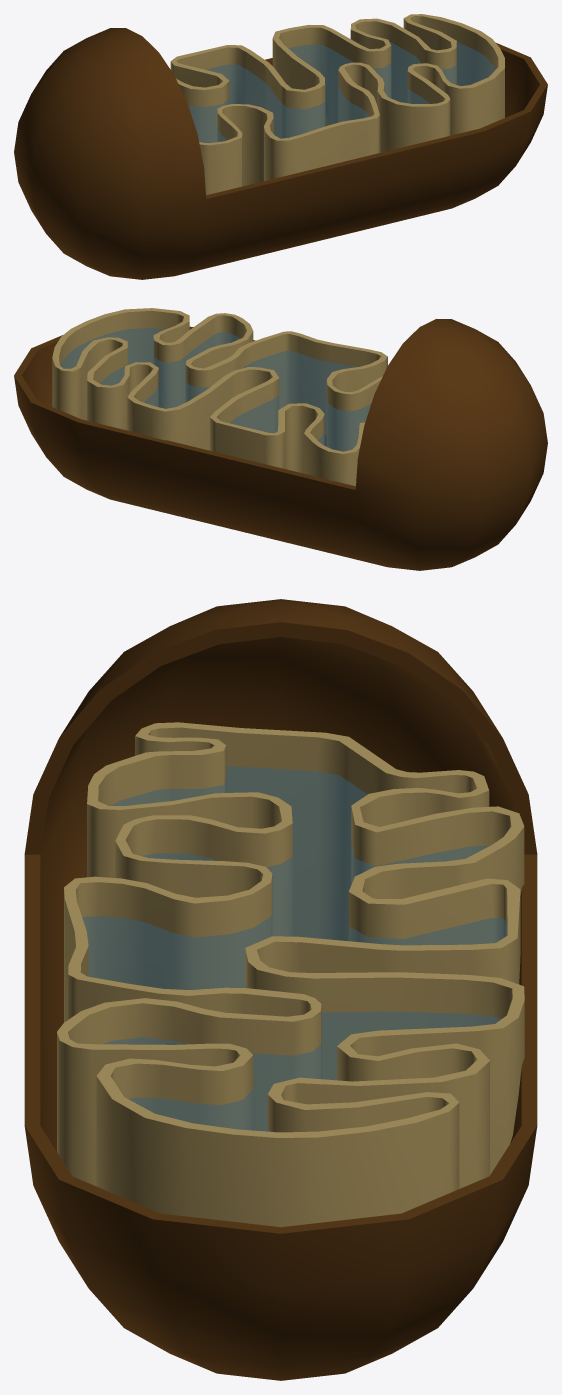
The model's file is Mitochondria.FBX.
3 renders of one model, top to bottom at view 1: azimuth 30°, elevation 25°; view 2: azimuth 150°, elevation 25°; view 3: azimuth 270°, elevation 25°, orthographic. The views are drawn at different scales.
Visible parts, largest first — view 1: Outer_Membrane_Mitochondria_Cell, Mitochondria_Cell_Cristae, Mitochondria_Cell_Matrix; view 2: Outer_Membrane_Mitochondria_Cell, Mitochondria_Cell_Cristae, Mitochondria_Cell_Matrix; view 3: Mitochondria_Cell_Cristae, Outer_Membrane_Mitochondria_Cell, Mitochondria_Cell_Matrix.
Boxes of the visible parts, <box> form: Outer_Membrane_Mitochondria_Cell: <box>14,28,547,279</box>; Mitochondria_Cell_Cristae: <box>170,14,504,195</box>; Mitochondria_Cell_Matrix: <box>188,42,495,143</box>; Outer_Membrane_Mitochondria_Cell: <box>14,319,547,570</box>; Mitochondria_Cell_Cristae: <box>52,308,387,486</box>; Mitochondria_Cell_Matrix: <box>61,327,371,451</box>; Mitochondria_Cell_Cristae: <box>57,722,524,1227</box>; Outer_Membrane_Mitochondria_Cell: <box>24,599,537,1380</box>; Mitochondria_Cell_Matrix: <box>82,766,507,1131</box>.
Size of the model in its own units: 67.5 by 30 by 30.
